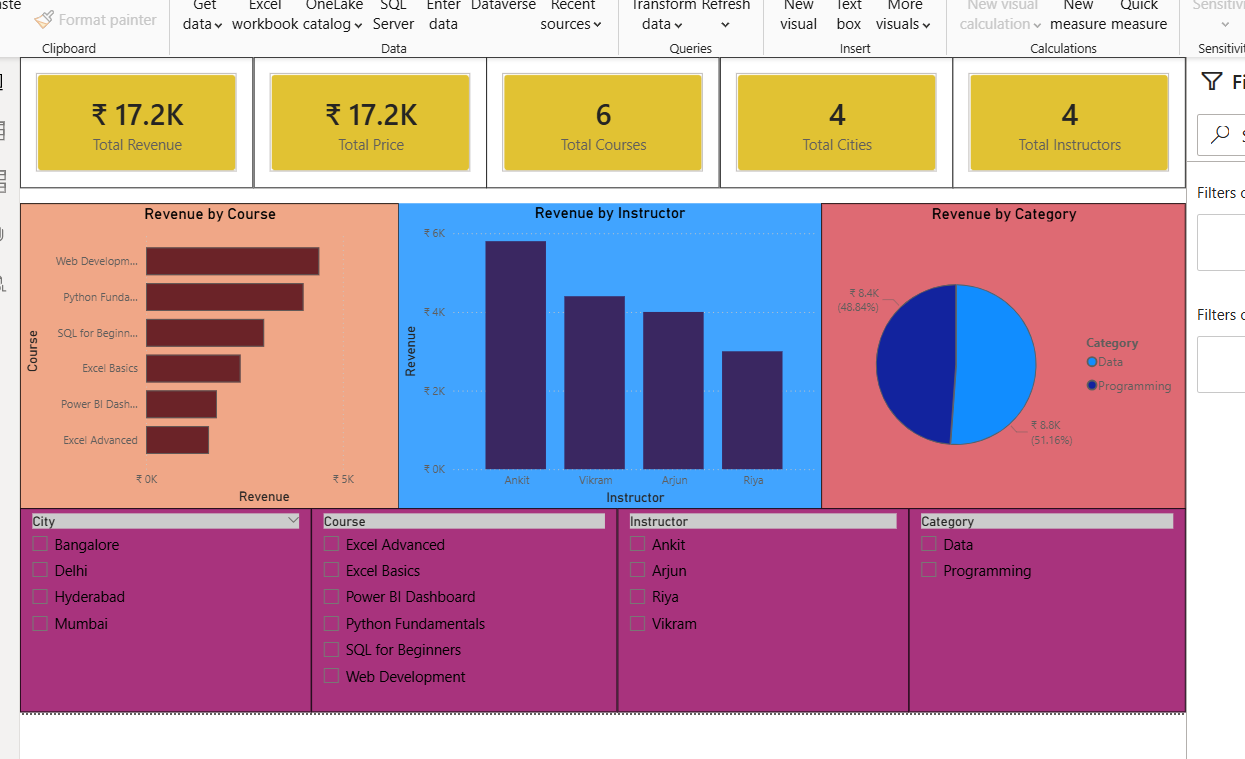

Layout of this report page (visuals, bound fields, positions):
{"tool":"powerbi","page":{"name":"Page 1","canvas":[1280,720],"ordinal":0},"visuals":[{"type":"cardVisual","fields":{"Data":["Sum(Dataset.Price)"]},"box":[256,0,256,144],"z":0},{"type":"cardVisual","fields":{"Data":["Sum(Dataset.Revenue)"]},"box":[0,0,256,144],"z":1},{"type":"cardVisual","fields":{"Data":["Count(Dataset.Course)"]},"box":[512,0,256,144],"z":2},{"type":"cardVisual","fields":{"Data":["Count(Dataset.City)"]},"box":[768,0,256,144],"z":3},{"type":"cardVisual","fields":{"Data":["Count(Dataset.Instructor)"]},"box":[1024,0,256,144],"z":4},{"type":"barChart","fields":{"Category":["Dataset.Course"],"Y":["Sum(Dataset.Revenue)"]},"box":[0,160,416,336],"z":5},{"type":"columnChart","fields":{"Y":["Sum(Dataset.Revenue)"],"Category":["Dataset.Instructor"]},"box":[416,160,464,336],"z":6},{"type":"pieChart","fields":{"Category":["Dataset.Category"],"Y":["Sum(Dataset.Revenue)"]},"box":[880,160,400,336],"z":7},{"type":"slicer","fields":{"Values":["Dataset.City"]},"box":[0,496,320,224],"z":8},{"type":"slicer","fields":{"Values":["Dataset.Course"]},"box":[320,496,336,224],"z":9},{"type":"slicer","fields":{"Values":["Dataset.Instructor"]},"box":[656,496,320,224],"z":10},{"type":"slicer","fields":{"Values":["Dataset.Category"]},"box":[976,496,304,224],"z":11}]}

Visuals, with their boxes in screenshot pixels (x1, y1, x2, y2):
cardVisual - Sum(Dataset.Price): Rect(240, 49, 477, 182)
cardVisual - Sum(Dataset.Revenue): Rect(3, 49, 240, 182)
cardVisual - Count(Dataset.Course): Rect(477, 49, 714, 182)
cardVisual - Count(Dataset.City): Rect(714, 49, 951, 182)
cardVisual - Count(Dataset.Instructor): Rect(951, 49, 1187, 182)
barChart - Dataset.Course x Sum(Dataset.Revenue): Rect(3, 197, 388, 508)
columnChart - Sum(Dataset.Revenue) x Dataset.Instructor: Rect(388, 197, 817, 508)
pieChart - Dataset.Category x Sum(Dataset.Revenue): Rect(817, 197, 1187, 508)
slicer - Dataset.City: Rect(3, 508, 299, 715)
slicer - Dataset.Course: Rect(299, 508, 610, 715)
slicer - Dataset.Instructor: Rect(610, 508, 906, 715)
slicer - Dataset.Category: Rect(906, 508, 1187, 715)
